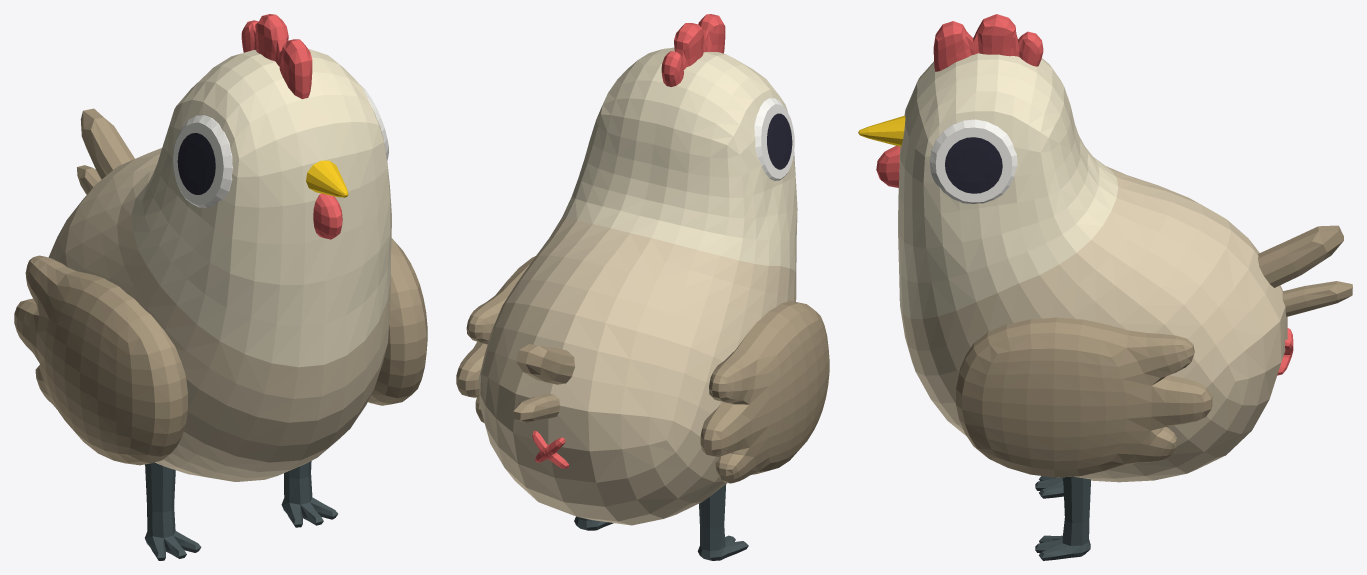
File: Hen_LOD0.fbx
3 renders of one model, left to right at view 1: azimuth 30°, elevation 25°; view 2: azimuth 150°, elevation 25°; view 3: azimuth 270°, elevation 25°, orthographic. The views are drawn at different scales.
Visible parts, largest first — view 1: Mesh; view 2: Mesh; view 3: Mesh.
Boxes of the visible parts, x1,y1,x2,y2 form: Mesh: (14, 14, 427, 560); Mesh: (456, 14, 829, 560); Mesh: (858, 14, 1352, 560).
Size of the model in its own units: 125 by 200 by 177.
Materials: 1 (1 with a texture image).
